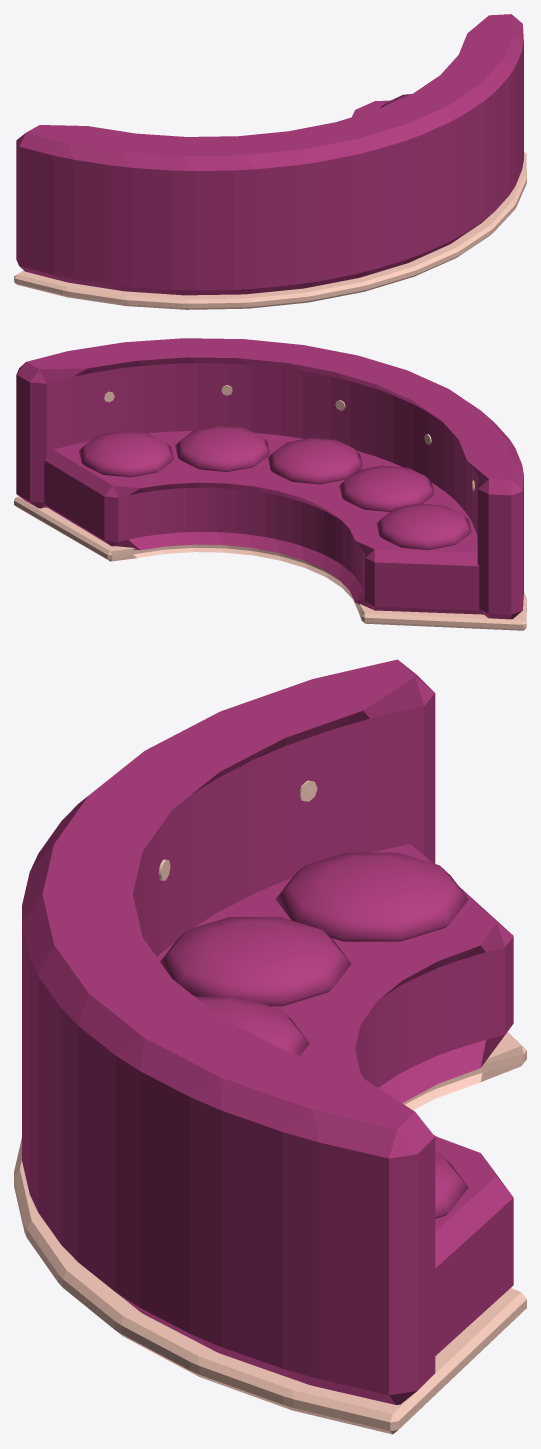
The model's file is ag_sofa.glb.
3 views of the same model, one above another, from view 1: azimuth 30°, elevation 25°; view 2: azimuth 150°, elevation 25°; view 3: azimuth 270°, elevation 25° (orthographic). The views are drawn at different scales.
Visible parts, largest first — view 1: ag_sofa; view 2: ag_sofa; view 3: ag_sofa.
Part boxes in pixels (x1=…): ag_sofa: x1=14, y1=14, x2=526, y2=309; ag_sofa: x1=14, y1=338, x2=526, y2=630; ag_sofa: x1=14, y1=659, x2=526, y2=1434.
Bounding box in the file's own units: 3.63 × 1.01 × 1.59.
